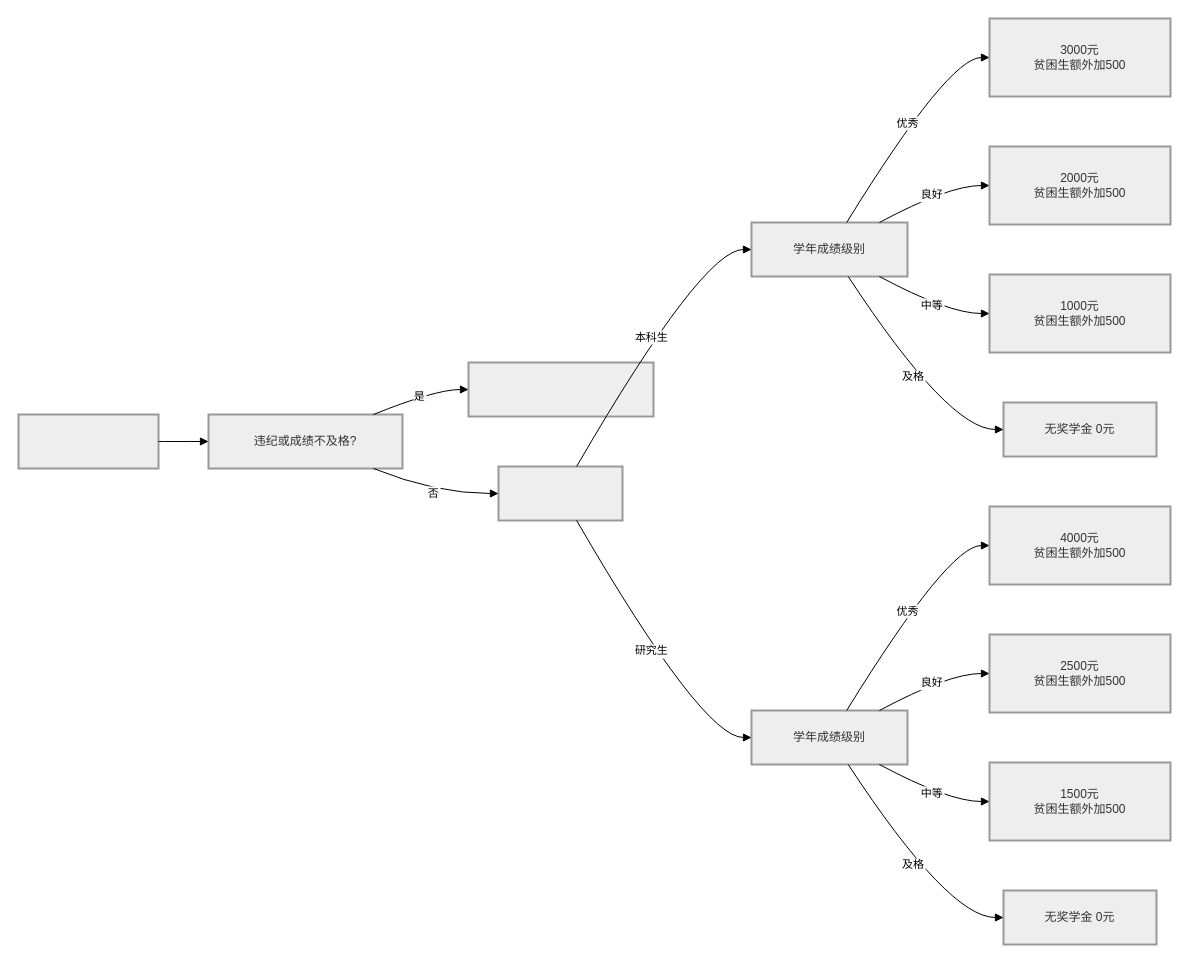
This 1188x962 diagram has some shape labels left out. Each missing label, with the centre of its shape:
"取消评奖资格 0元" goes at (x=560, y=389).
"奖学金评定" goes at (x=88, y=441).
"学生类型" goes at (x=560, y=493).
